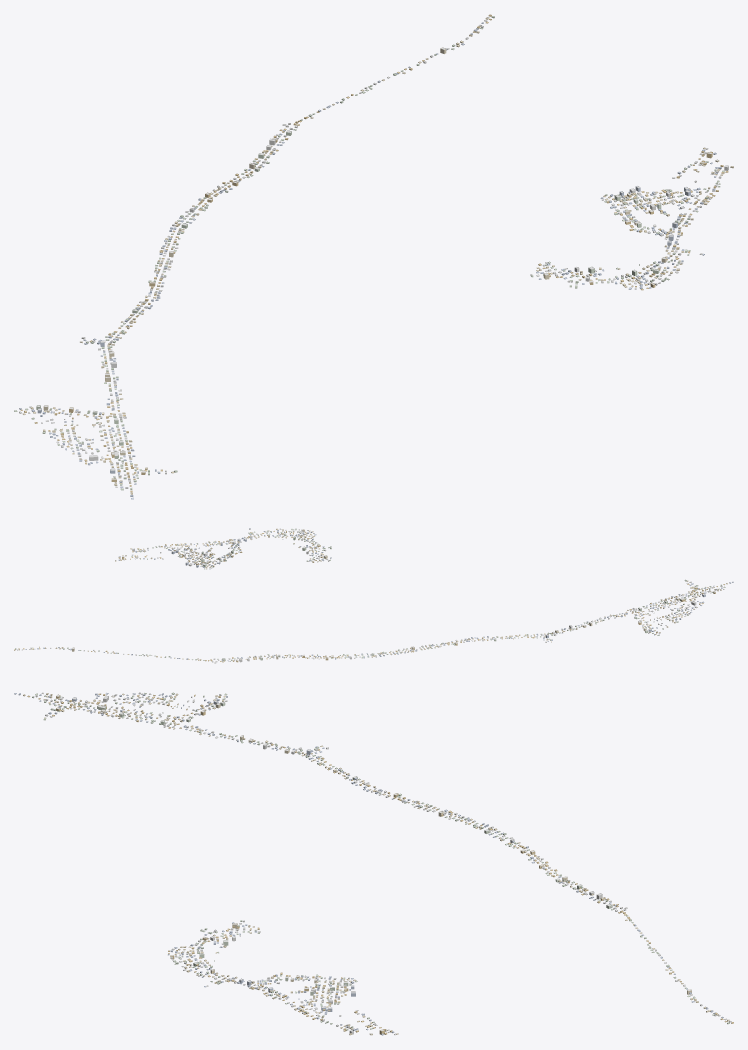
3 renders of one model, top to bottom at view 1: azimuth 30°, elevation 25°; view 2: azimuth 150°, elevation 25°; view 3: azimuth 270°, elevation 25°, orthographic. The views are drawn at different scales.
Parts seen in each view (by area): view 1: house, roof_zinc, apartment; view 2: house, roof_zinc, apartment, roof_flat; view 3: house, roof_zinc, apartment.
Boxes of the visible parts, left/top/right/bottom form: house: left=14, top=14, right=733, bottom=499; roof_zinc: left=14, top=15, right=733, bottom=498; apartment: left=36, top=47, right=728, bottom=481; house: left=14, top=528, right=733, bottom=663; roof_zinc: left=14, top=528, right=733, bottom=663; apartment: left=72, top=529, right=715, bottom=662; roof_flat: left=72, top=529, right=715, bottom=660; house: left=14, top=692, right=733, bottom=1035; roof_zinc: left=14, top=692, right=733, bottom=1034; apartment: left=56, top=694, right=691, bottom=1035.
Size of the model in its own units: 1.4e+08 by 725848 by 1.24e+08.
